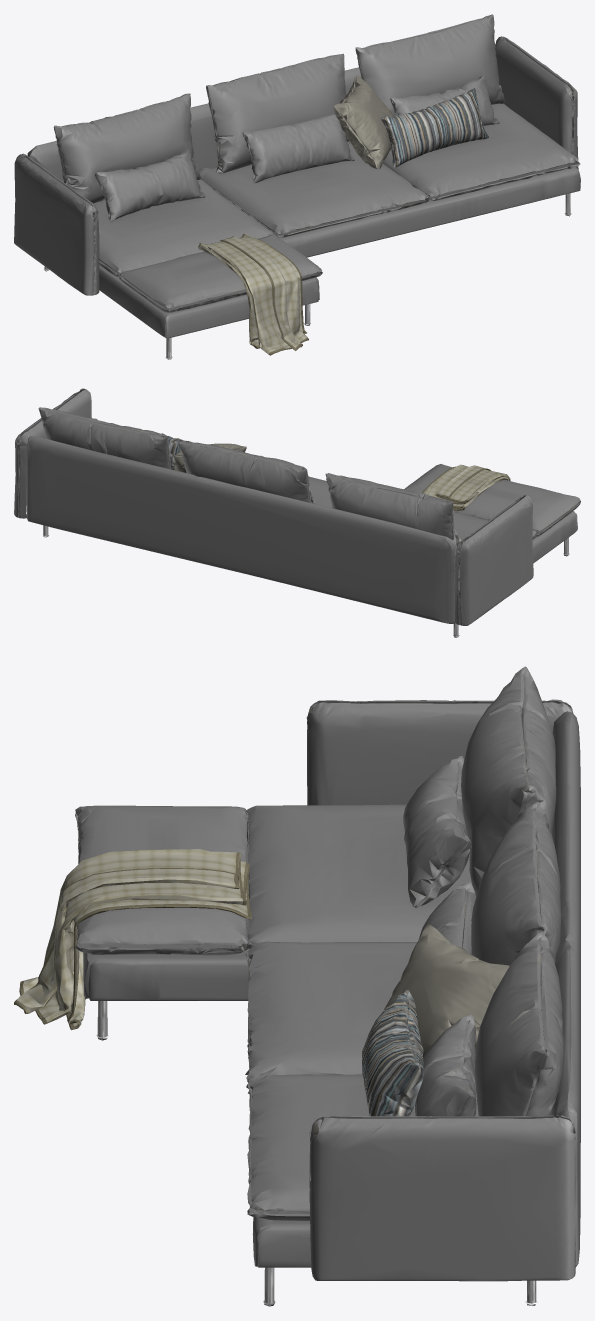
Rendered from raw_model.obj.
3 views of the same model, one above another, from view 1: azimuth 30°, elevation 25°; view 2: azimuth 150°, elevation 25°; view 3: azimuth 270°, elevation 25° (orthographic). The views are drawn at different scales.
Parts seen in each view (by area): view 1: solid_001, solid_007, solid_003, solid_002, solid_005; view 2: solid_001, solid_007, solid_005, solid_002; view 3: solid_001, solid_007, solid_002, solid_003, solid_005, solid_004.
Boxes of the visible parts, bbox=[...] form: solid_001: bbox=[14, 14, 580, 338]; solid_007: bbox=[198, 234, 307, 354]; solid_003: bbox=[381, 88, 488, 167]; solid_002: bbox=[333, 75, 393, 168]; solid_005: bbox=[198, 234, 308, 355]; solid_001: bbox=[14, 388, 580, 625]; solid_007: bbox=[423, 464, 510, 508]; solid_005: bbox=[422, 466, 491, 510]; solid_002: bbox=[173, 443, 246, 472]; solid_001: bbox=[75, 666, 580, 1281]; solid_007: bbox=[16, 849, 247, 1026]; solid_002: bbox=[384, 923, 509, 1058]; solid_003: bbox=[362, 990, 423, 1116]; solid_005: bbox=[14, 852, 252, 1030]; solid_004: bbox=[96, 1001, 537, 1306].
Bounding box in the file's own units: 3 × 0.8357 × 1.67.
Materials: 1 (1 with a texture image).
